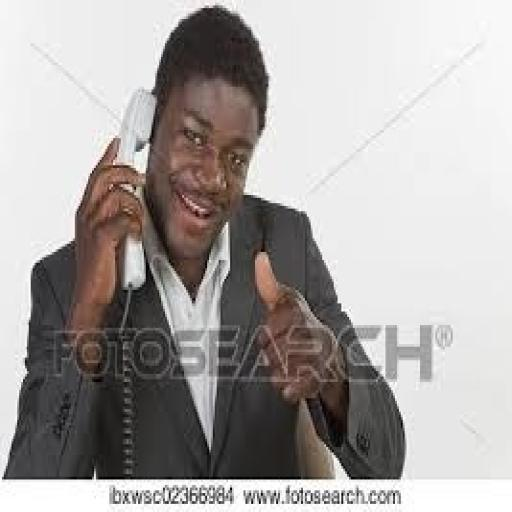calling: (0, 2, 407, 480)
